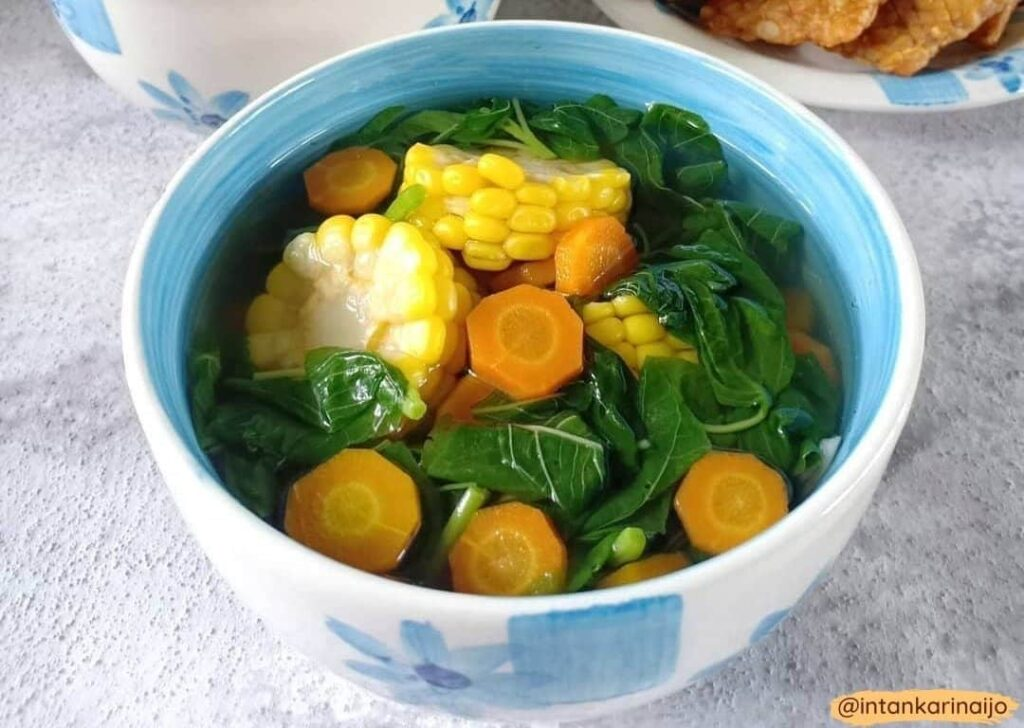Sayur Bayam: (121, 95, 867, 655)
